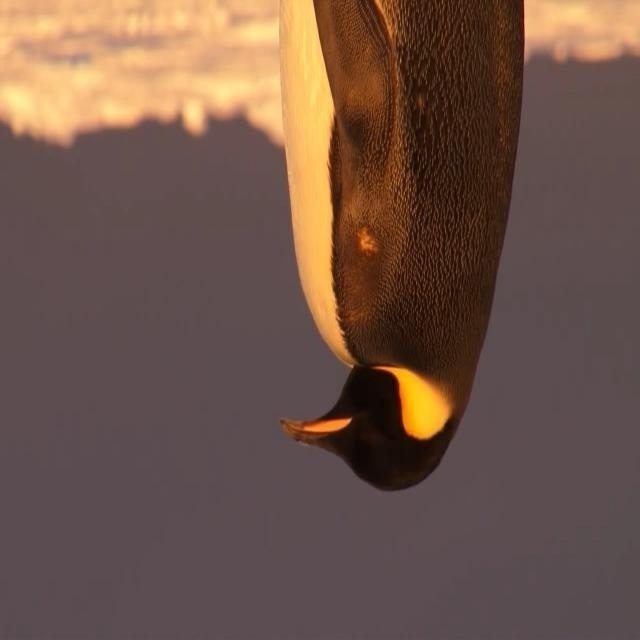penguin: (271, 1, 528, 494)
